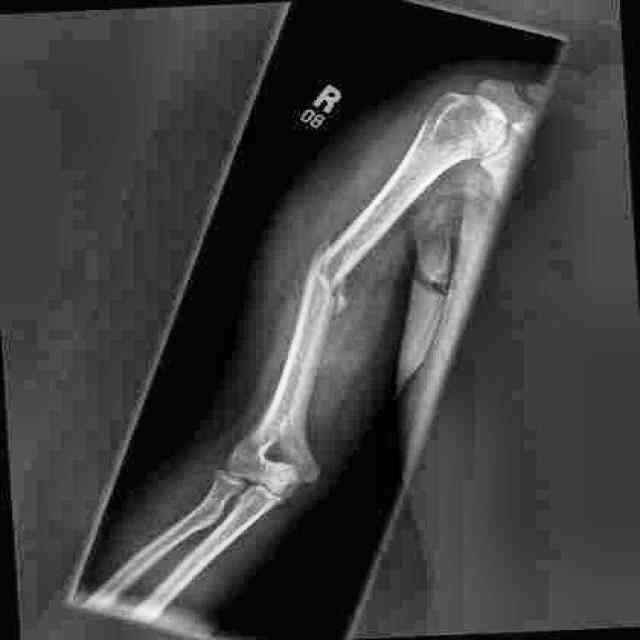humerus: (254, 202, 397, 368)
